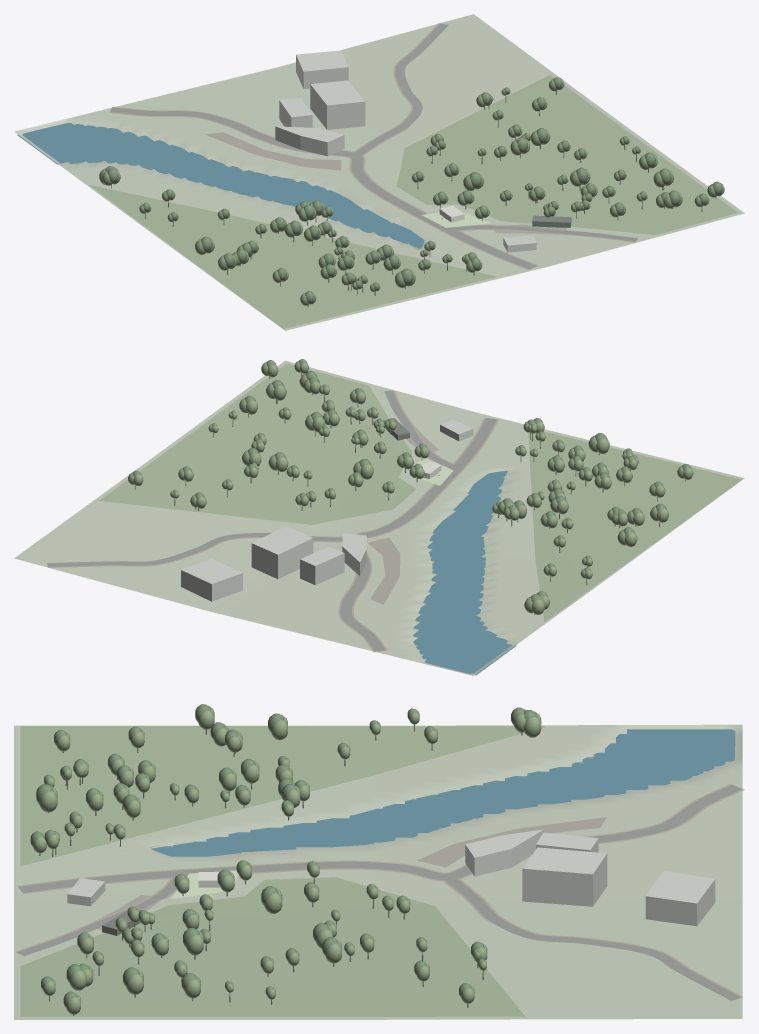
File: Module2_Common_Site_UNCHANGED.glb
3 renders of one model, top to bottom at view 1: azimuth 30°, elevation 25°; view 2: azimuth 150°, elevation 25°; view 3: azimuth 270°, elevation 25°, orthographic. The views are drawn at different scales.
Visible parts, largest first — view 1: Indicative_terrain, woodlandEast, woodlandWest, Lake_canal_context, Main_access_road, hotel-main, hotel-north, arrival-building, Hotel_access_road, Main_access_shoulder, North_existing_parking, hotel-wing (+1 smaller); view 2: Indicative_terrain, woodlandEast, woodlandWest, Lake_canal_context, Main_access_road, hotel-main, hotel-north, Hotel_access_road, hotel-wing, North_existing_parking, Main_access_shoulder, arrival-building (+1 smaller); view 3: Indicative_terrain, woodlandEast, woodlandWest, Lake_canal_context, hotel-main, Main_access_road, hotel-north, Hotel_access_road, arrival-building, Main_access_shoulder, North_existing_parking, Side_junction_road (+4 smaller).
Part boxes in pixels (x1,y1,x2,y2): Indicative_terrain: (14, 14, 744, 330); woodlandEast: (396, 75, 737, 234); woodlandWest: (89, 181, 496, 328); Lake_canal_context: (17, 123, 424, 248); Main_access_road: (110, 107, 536, 269); hotel-main: (310, 80, 365, 129); hotel-north: (296, 50, 348, 89); arrival-building: (275, 126, 344, 156); Hotel_access_road: (355, 23, 448, 156); Main_access_shoulder: (109, 106, 538, 269); North_existing_parking: (205, 132, 341, 170); hotel-wing: (279, 98, 312, 127); Indicative_terrain: (14, 360, 744, 675); woodlandEast: (99, 363, 415, 524); woodlandWest: (484, 431, 741, 621); Lake_canal_context: (413, 470, 516, 675); Main_access_road: (340, 418, 497, 651); hotel-main: (251, 526, 313, 578); hotel-north: (181, 558, 242, 601); Hotel_access_road: (47, 533, 342, 567); hotel-wing: (300, 546, 344, 585); North_existing_parking: (367, 537, 400, 604); Main_access_shoulder: (338, 418, 498, 652); arrival-building: (342, 533, 366, 575); Indicative_terrain: (14, 724, 742, 1019); woodlandEast: (20, 877, 525, 1016); woodlandWest: (20, 725, 545, 865); Lake_canal_context: (151, 729, 735, 856); hotel-main: (522, 847, 607, 906); Main_access_road: (18, 784, 742, 892); hotel-north: (645, 871, 715, 926); Hotel_access_road: (442, 877, 741, 1000); arrival-building: (465, 829, 544, 876); Main_access_shoulder: (18, 784, 744, 894); North_existing_parking: (417, 817, 606, 867); Side_junction_road: (17, 873, 185, 955).
Size of the model in its own units: 275 by 16.07 by 281.
